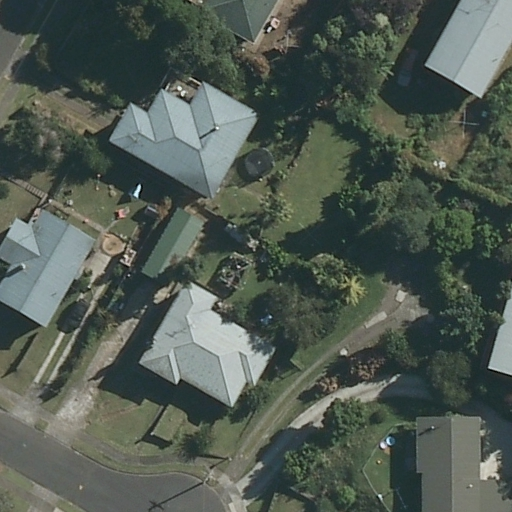DT: (196, 465, 220, 486)
